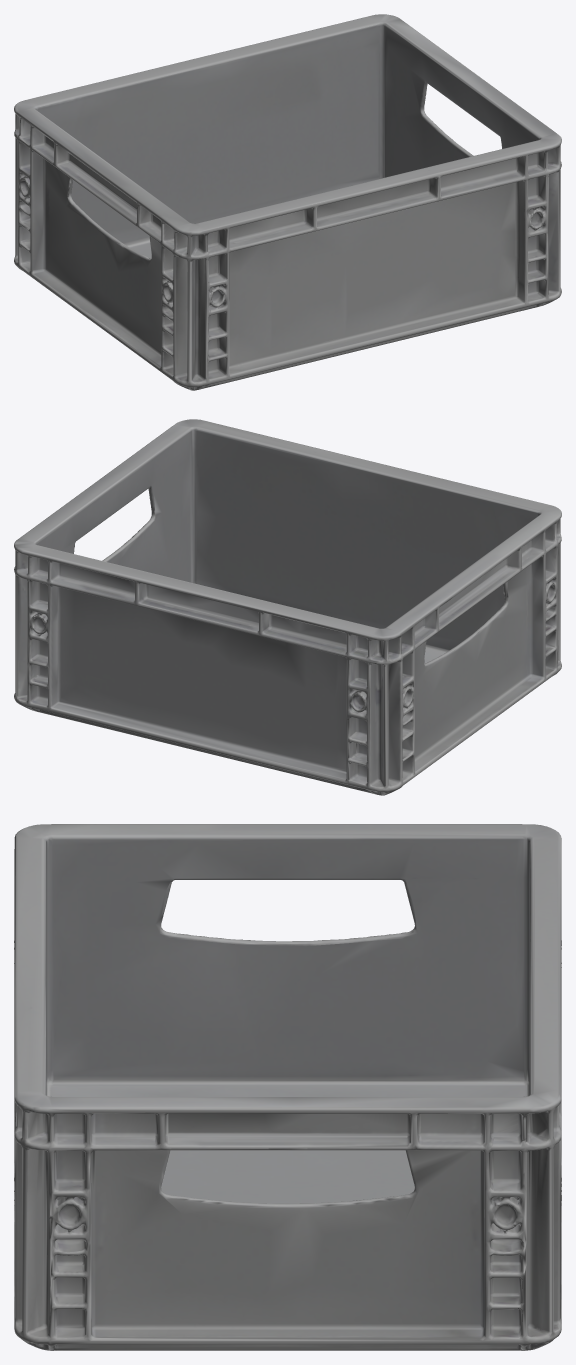
The model's file is asset04.glb.
3 views of the same model, one above another, from view 1: azimuth 30°, elevation 25°; view 2: azimuth 150°, elevation 25°; view 3: azimuth 270°, elevation 25° (orthographic). The views are drawn at different scales.
Visible parts, largest first — view 1: asset04; view 2: asset04; view 3: asset04.
Part boxes in pixels (x1,y1,x2,y2): asset04: [14, 14, 561, 390]; asset04: [14, 419, 561, 795]; asset04: [14, 824, 561, 1350].
Bounding box in the file's own units: 0.5996 × 0.2483 × 0.4851.
Materials: 1 (1 with a texture image).
